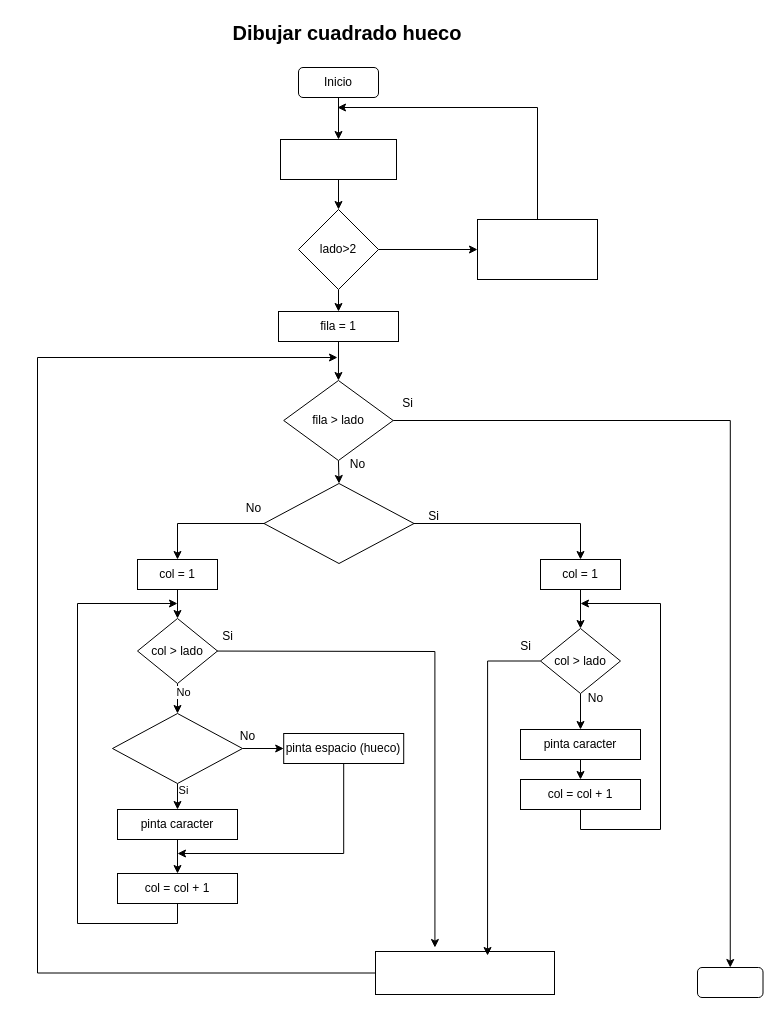
Some shapes in this 780 by 1015 pixel diagram are drawn without their labels. Each missing label, with the centre of its shape:
col = 1 or col = lado: pixel 177 748
fila = fila +1: pixel 464 972
fila =1 or fila = lado: pixel 338 523
Fin: pixel 729 982
Leer lado: pixel 338 159
Mensaje: "el lado tiene que ser >2": pixel 537 249
